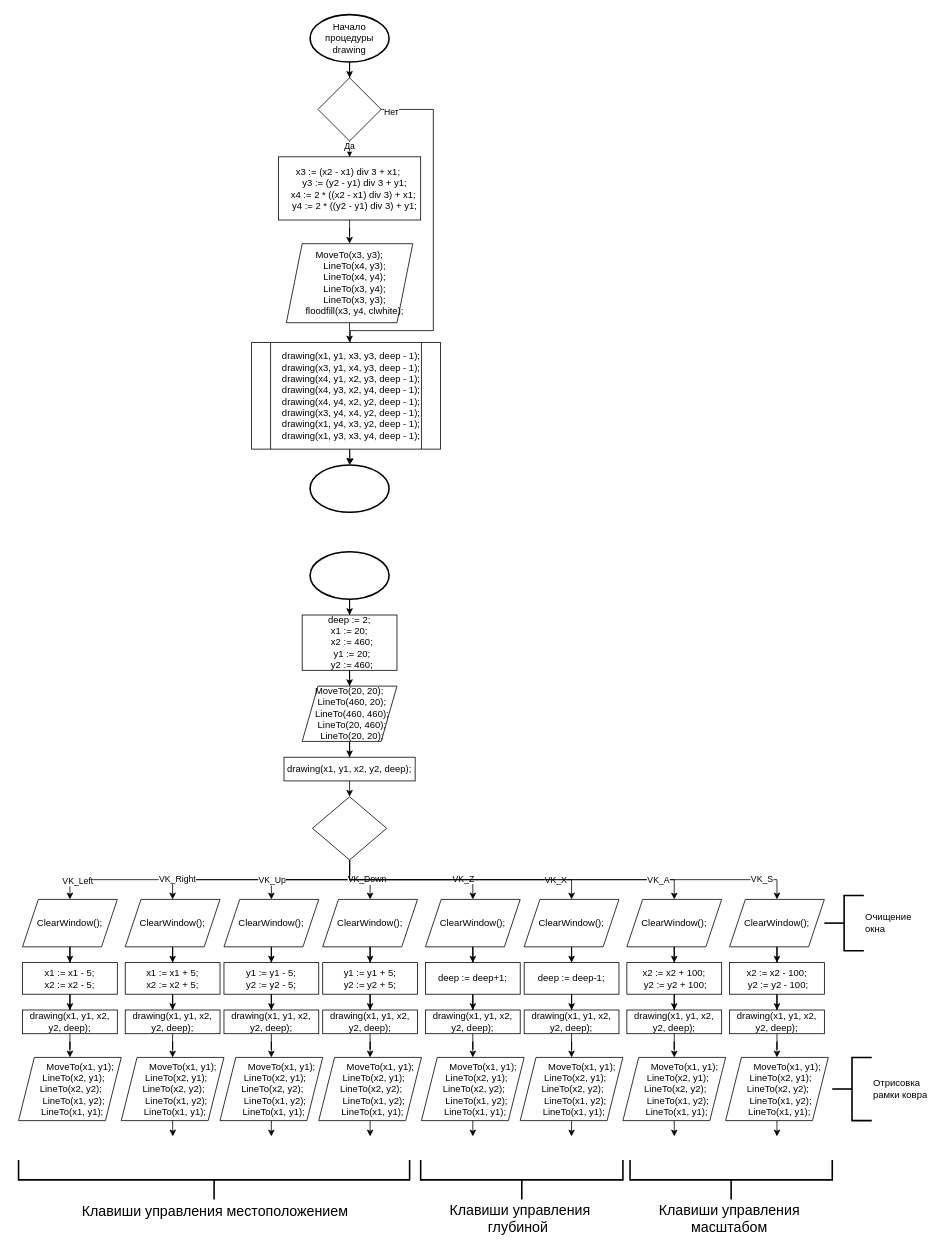
This 941x1250 diagram has some shape labels left out. Each missing label, with the centre of its shape:
"*нажатая клавиша*?" goes at pixel 349 828.
"deep >0" goes at pixel 349 109.
"Конец процедуры drawing" goes at pixel 349 488.
"Начало" goes at pixel 349 575.
